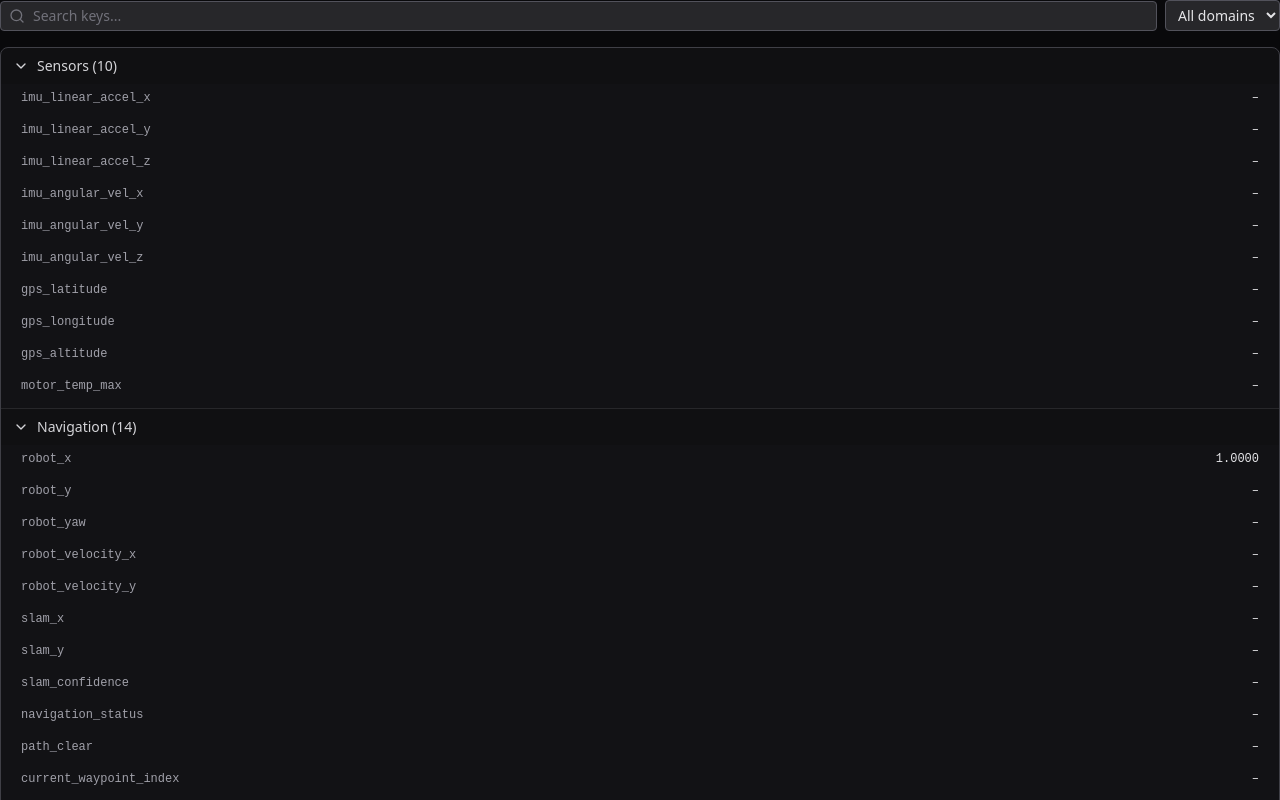
it: BlackboardRealtime › shows "No keys match" when search has no matches
This screenshot has width=1280, height=800.
Type "xyznonexistent" into the field with placeholder "Search keys...". click: (590, 16)
box: [33, 6, 1148, 26]
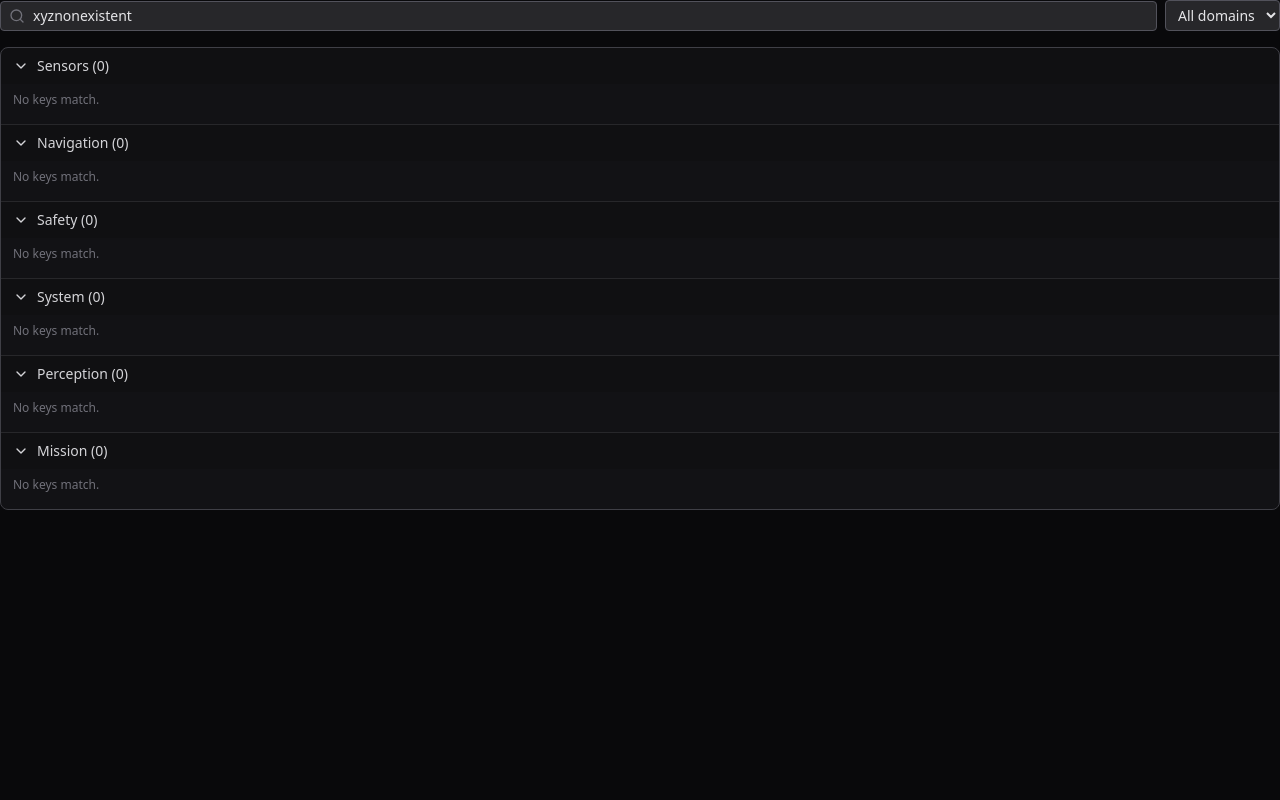
Expected: the 1st text "No keys match." is shown, [13, 91, 99, 108]
